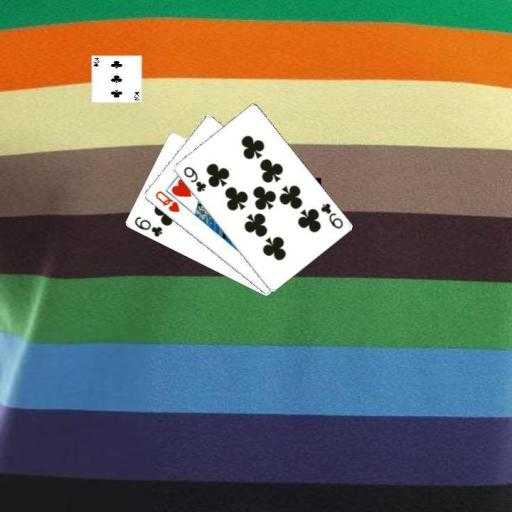card-corner: (180, 163, 208, 193), (317, 200, 344, 230), (131, 214, 163, 238), (152, 188, 180, 214)
